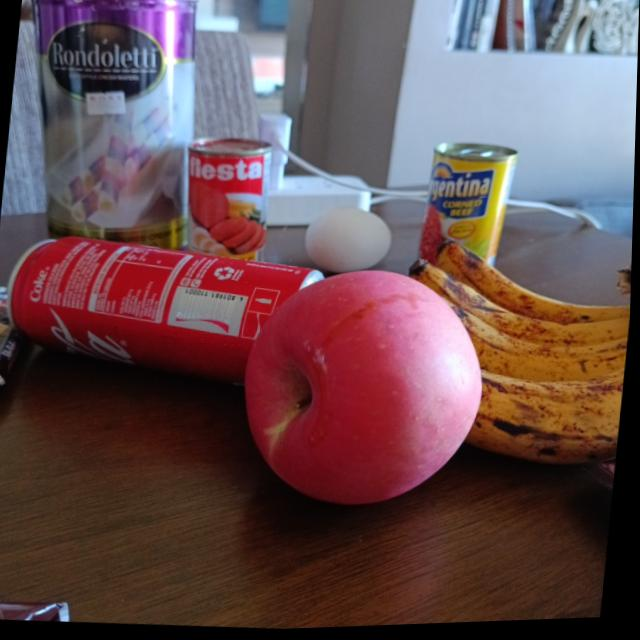apple: (234, 259, 494, 515)
coke: (0, 217, 329, 390)
egg: (303, 209, 397, 278)
